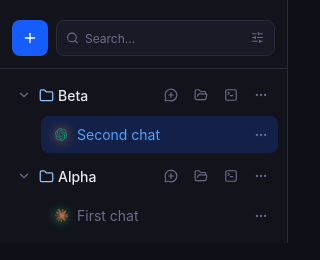
Test case: Sidebar › filters projects by chat title when searching
Type "Second" into the field named "Search projects and chats" at (166, 38), box [56,20,275,56]
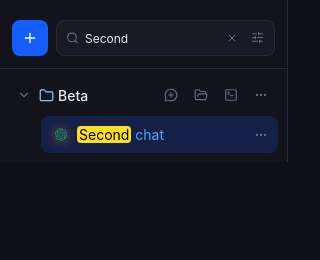
Now the button "First chat" is gone
